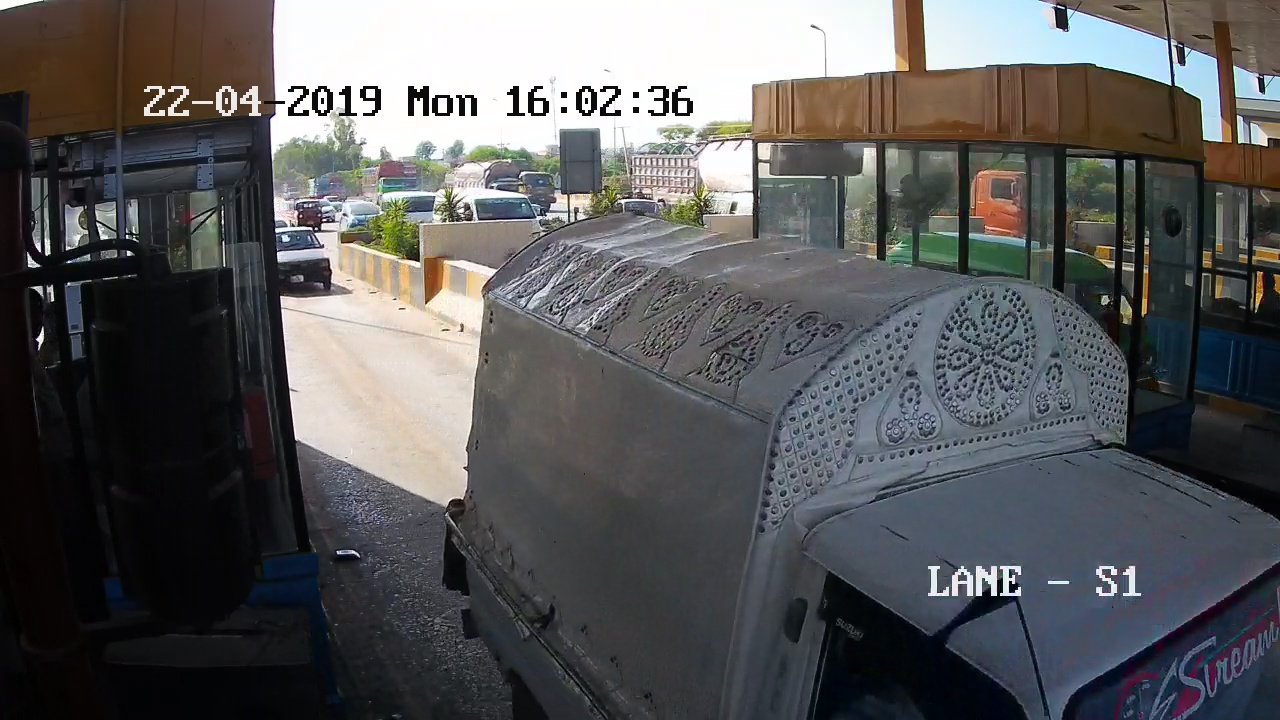car: (451, 217, 1266, 720), (271, 224, 336, 291)
